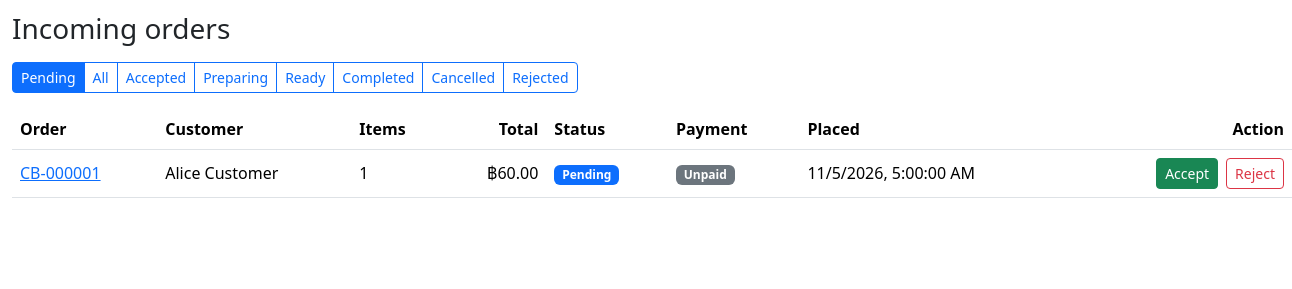
Test case: OperatorOrders screen (AC-32, AC-33, AC-34, AC-35, AC-41) › on 409 INVALID_TRANSITION, shows error alert and reloads order list
Expected: the link "CB-000001" is shown, [20,162,101,184]
Click the button "Accept".
click(1187, 173)  # box [1156,158,1218,189]
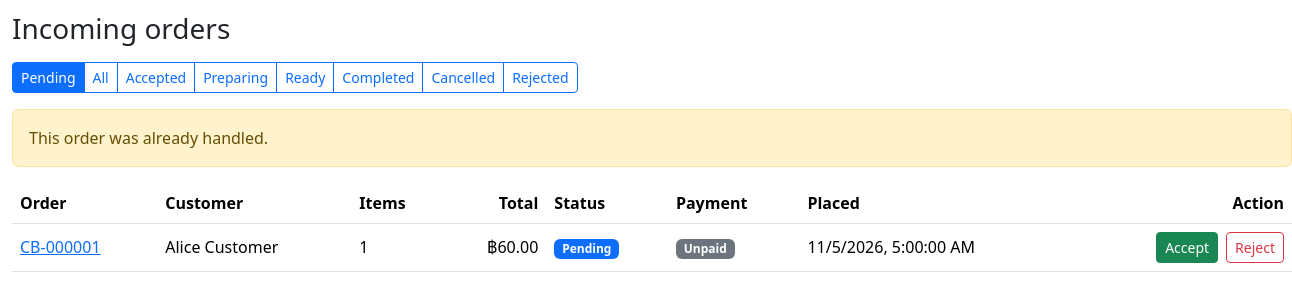
Result: the message reads "This order was already handled." at [29,127,268,149]
